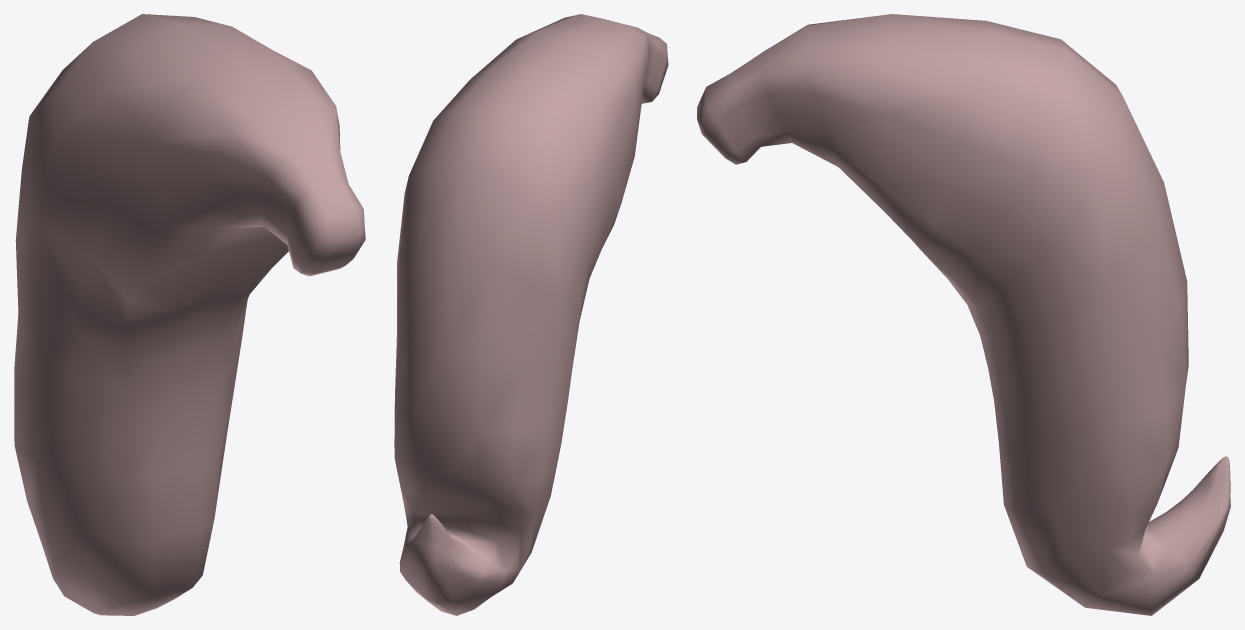
The model's file is Tail_04.fbx.
The picture shows the model from 3 angles, left to right: view 1: azimuth 30°, elevation 25°; view 2: azimuth 150°, elevation 25°; view 3: azimuth 270°, elevation 25°; orthographic projection. The views are drawn at different scales.
Parts seen in each view (by area): view 1: Tail_04; view 2: Tail_04; view 3: Tail_04.
Boxes of the visible parts, x1,y1,x2,y2 form: Tail_04: (14, 14, 365, 615); Tail_04: (394, 14, 668, 615); Tail_04: (697, 14, 1230, 615).
Size of the model in its own units: 79.53 by 222 by 185.
